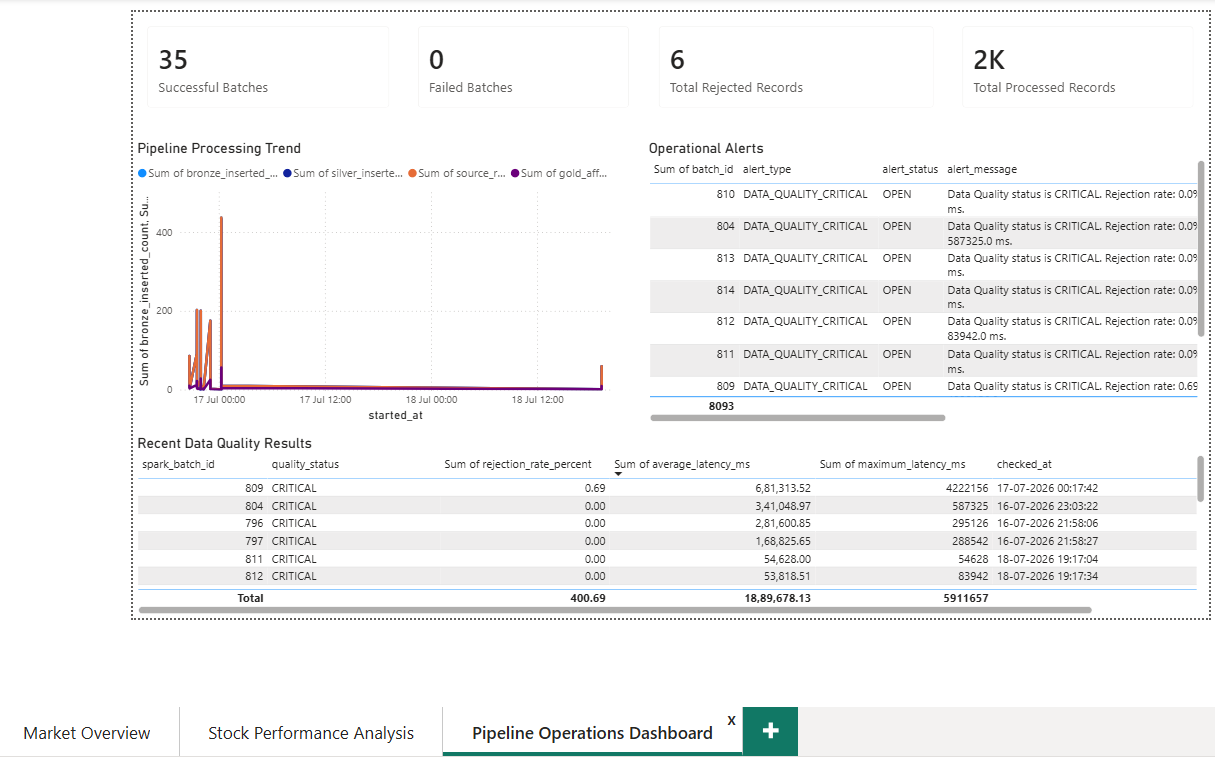

What the dashboard file says about the page in this screenshot:
{"tool":"powerbi","page":{"name":"Pipeline Operations Dashboard","canvas":[1280,720],"ordinal":2},"visuals":[{"type":"cardVisual","fields":{"Data":["monitoring pipeline_batch_audit.Successful Batches"]},"box":[0,0,322.2,131.7],"z":0},{"type":"cardVisual","fields":{"Data":["monitoring pipeline_batch_audit.Failed Batches"]},"box":[322.2,0,285.7,131.7],"z":1000},{"type":"cardVisual","fields":{"Data":["monitoring pipeline_batch_audit.Total Rejected Records"]},"box":[607.9,0,361.9,131.7],"z":2000},{"type":"cardVisual","fields":{"Data":["monitoring pipeline_batch_audit.Total Processed Records"]},"box":[969.8,0,309.5,131.7],"z":3000},{"type":"lineChart","title":"Pipeline Processing Trend","fields":{"Category":["monitoring pipeline_batch_audit.started_at"],"Y":["Sum(monitoring pipeline_batch_audit.bronze_inserted_count)","Sum(monitoring pipeline_batch_audit.silver_inserted_count)","Sum(monitoring pipeline_batch_audit.source_record_count)","Sum(monitoring pipeline_batch_audit.gold_affected_count)"]},"box":[0,152.4,593.7,339.7],"z":4000},{"type":"tableEx","title":"Recent Data Quality Results","fields":{"Values":["monitoring data_quality_results.spark_batch_id","monitoring data_quality_results.quality_status","Sum(monitoring data_quality_results.rejection_rate_percent)","Sum(monitoring data_quality_results.average_latency_ms)","Sum(monitoring data_quality_results.maximum_latency_ms)","monitoring data_quality_results.checked_at"]},"box":[0,503.2,1279.4,217.5],"z":5000},{"type":"tableEx","title":"Operational Alerts","fields":{"Values":["Sum(monitoring pipeline_alerts.batch_id)","monitoring pipeline_alerts.alert_type","monitoring pipeline_alerts.alert_status","monitoring pipeline_alerts.alert_message","monitoring pipeline_alerts.created_at","monitoring pipeline_alerts.severity"]},"box":[607.9,152.4,671.4,339.7],"z":6000}]}

Visuals, with their boxes on the page's 1280x720 design canvas (x1, y1, x2, y2). These are canvas units, not pixel positions in the 1215x757 screenshot, which may show the page scaled, cropped or inside an application window:
cardVisual - monitoring pipeline_batch_audit.Successful Batches: 0/0/322/132
cardVisual - monitoring pipeline_batch_audit.Failed Batches: 322/0/608/132
cardVisual - monitoring pipeline_batch_audit.Total Rejected Records: 608/0/970/132
cardVisual - monitoring pipeline_batch_audit.Total Processed Records: 970/0/1279/132
"Pipeline Processing Trend" lineChart: 0/152/594/492
"Recent Data Quality Results" tableEx: 0/503/1279/721
"Operational Alerts" tableEx: 608/152/1279/492
